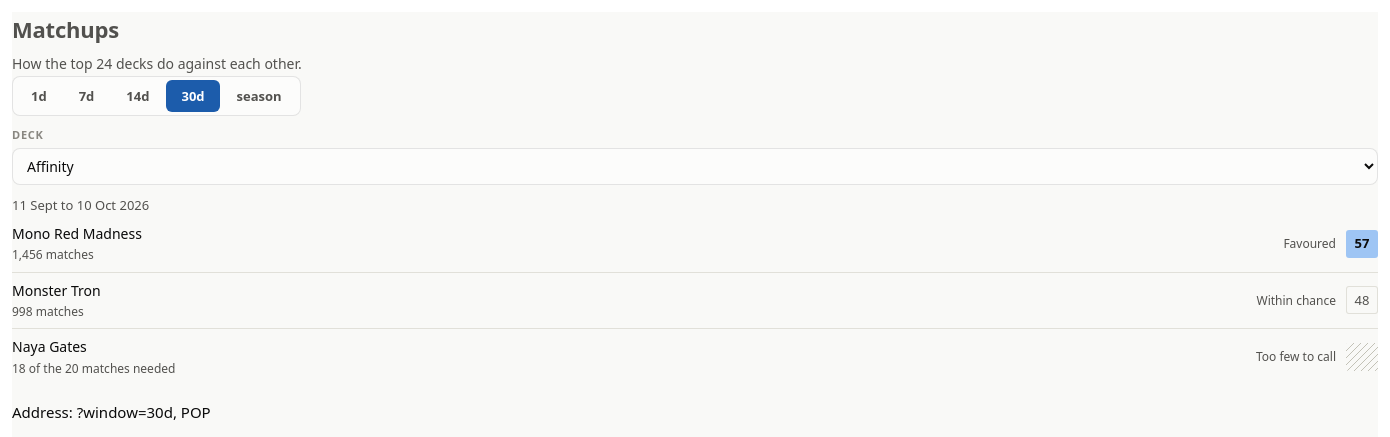
MatchupsPage below 640px › writes a chosen deck in place of the history entry, and shows its list without scrolling
This screenshot has width=1390, height=437.
Check: the list named "Match win rate of" is shown, box x1=12 y1=216 x2=1378 y2=385
Select "Naya Gates" in the dropdown labelled "Deck": (695, 167) x1=12 y1=148 x2=1378 y2=185
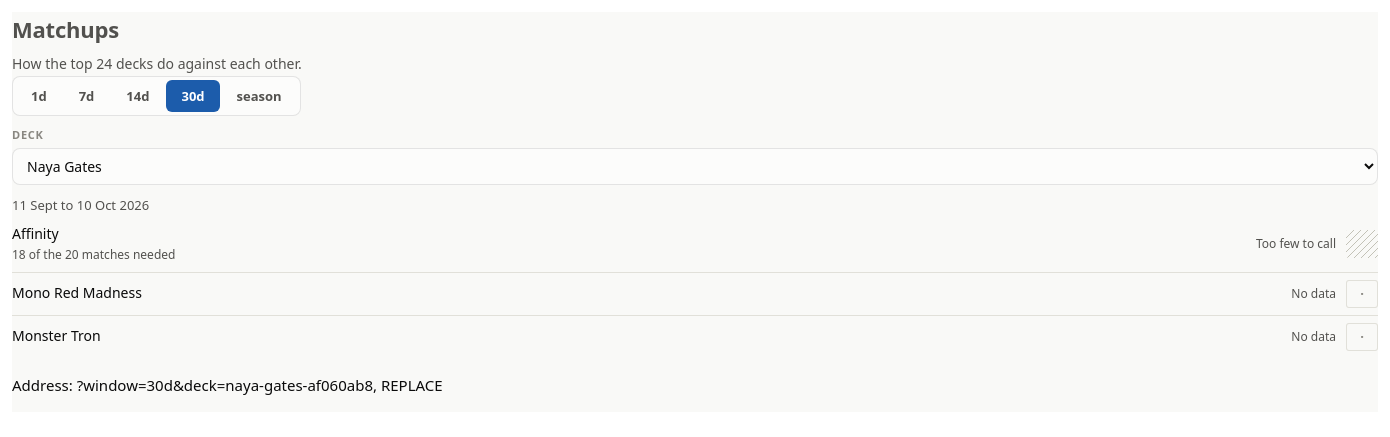
Check: the text "Address: ?window=30d&deck=naya-gates-af060ab8, REPLACE" is shown, box x1=12 y1=374 x2=443 y2=394
